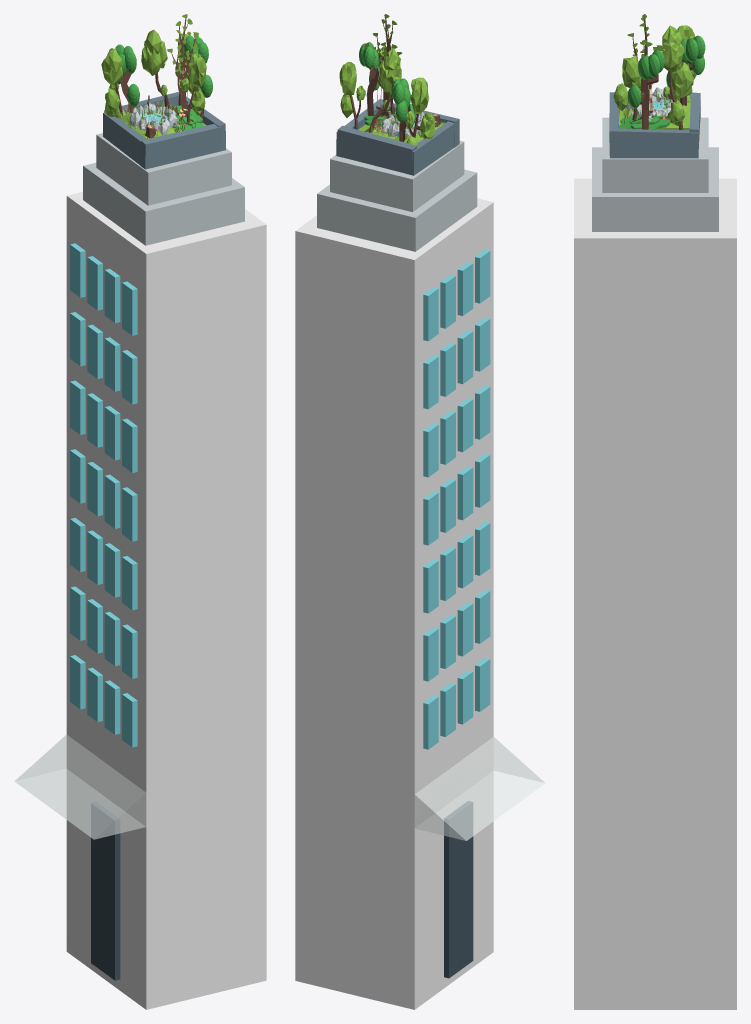
Rendered from residential-B3.glb.
3 views of the same model, side by side, from view 1: azimuth 30°, elevation 25°; view 2: azimuth 150°, elevation 25°; view 3: azimuth 270°, elevation 25° (orthographic). The views are drawn at different scales.
Visible parts, largest first — view 1: Node; view 2: Node; view 3: Node.
Part boxes in pixels (left/top/right/bottom): Node: left=14, top=14, right=266, bottom=1009; Node: left=295, top=14, right=545, bottom=1009; Node: left=574, top=14, right=736, bottom=1009.
Size of the model in its own units: 0.1122 by 0.5911 by 0.0897.
